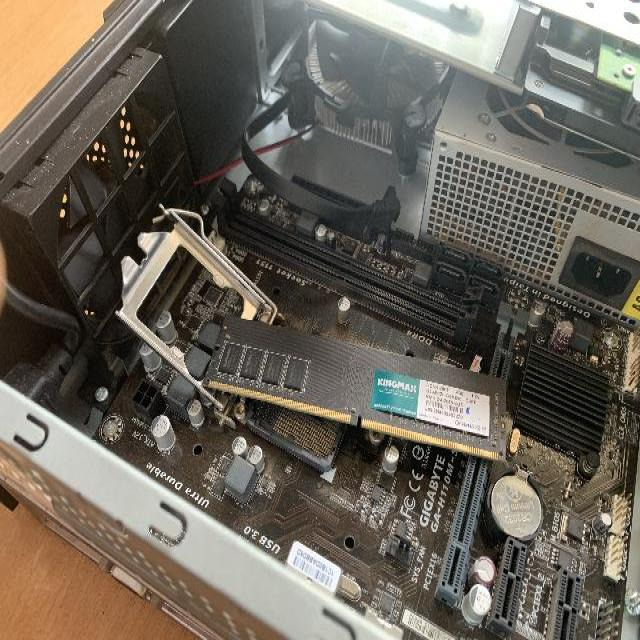Mainboard: (87, 262, 639, 640)
RAM: (204, 311, 502, 453)
